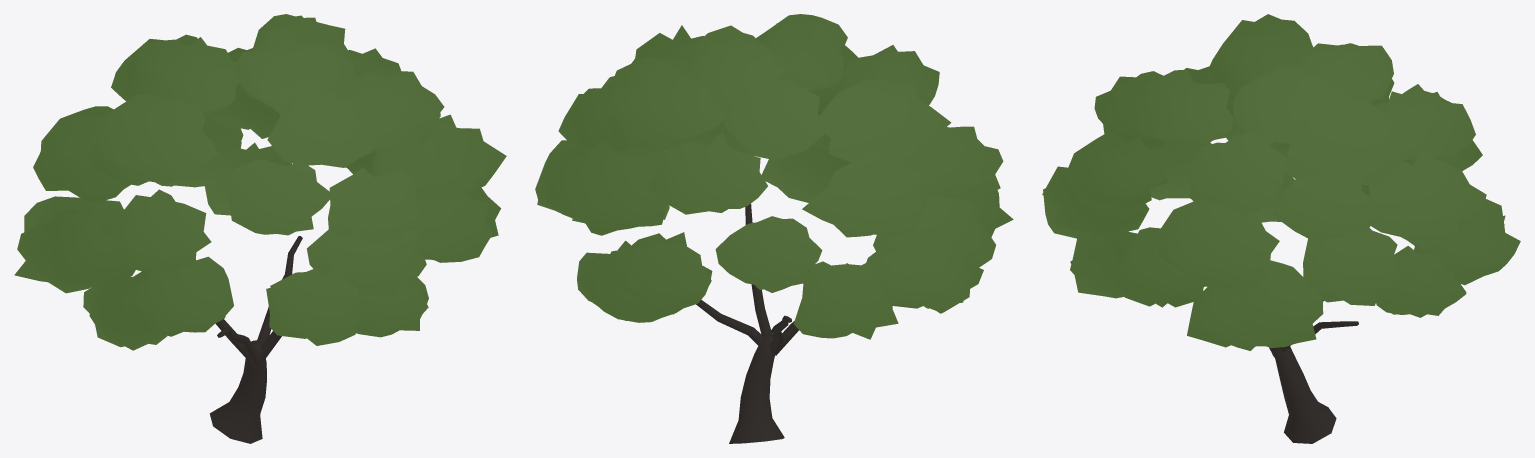
File: Blender_EmoryOak_1.glb
3 renders of one model, left to right at view 1: azimuth 30°, elevation 25°; view 2: azimuth 150°, elevation 25°; view 3: azimuth 270°, elevation 25°, orthographic. The views are drawn at different scales.
Visible parts, largest first — view 1: Blender_EmoryOak_1; view 2: Blender_EmoryOak_1; view 3: Blender_EmoryOak_1.
Boxes of the visible parts, <box> form: Blender_EmoryOak_1: <box>14,14,506,443</box>; Blender_EmoryOak_1: <box>535,14,1013,443</box>; Blender_EmoryOak_1: <box>1042,14,1520,443</box>.
Size of the model in its own units: 10.69 by 9.35 by 10.64.
